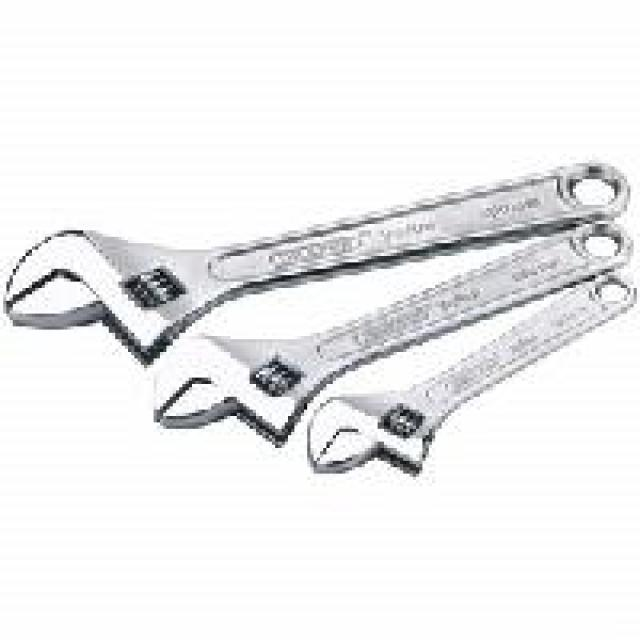wrench: (0, 169, 607, 498)
